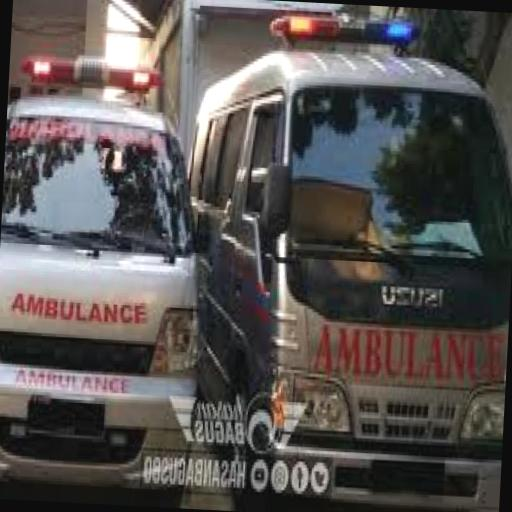Police car: (188, 3, 512, 512), (0, 48, 211, 485)
